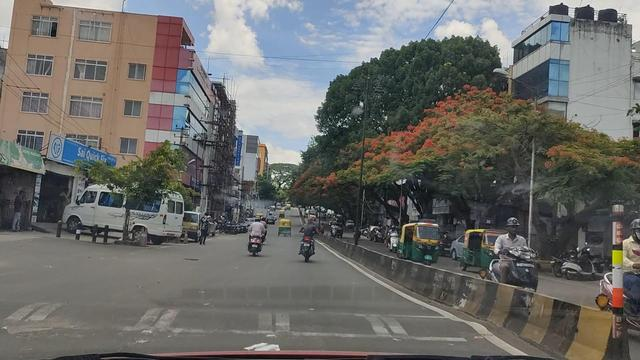SpeedBump: (8, 298, 482, 341)
